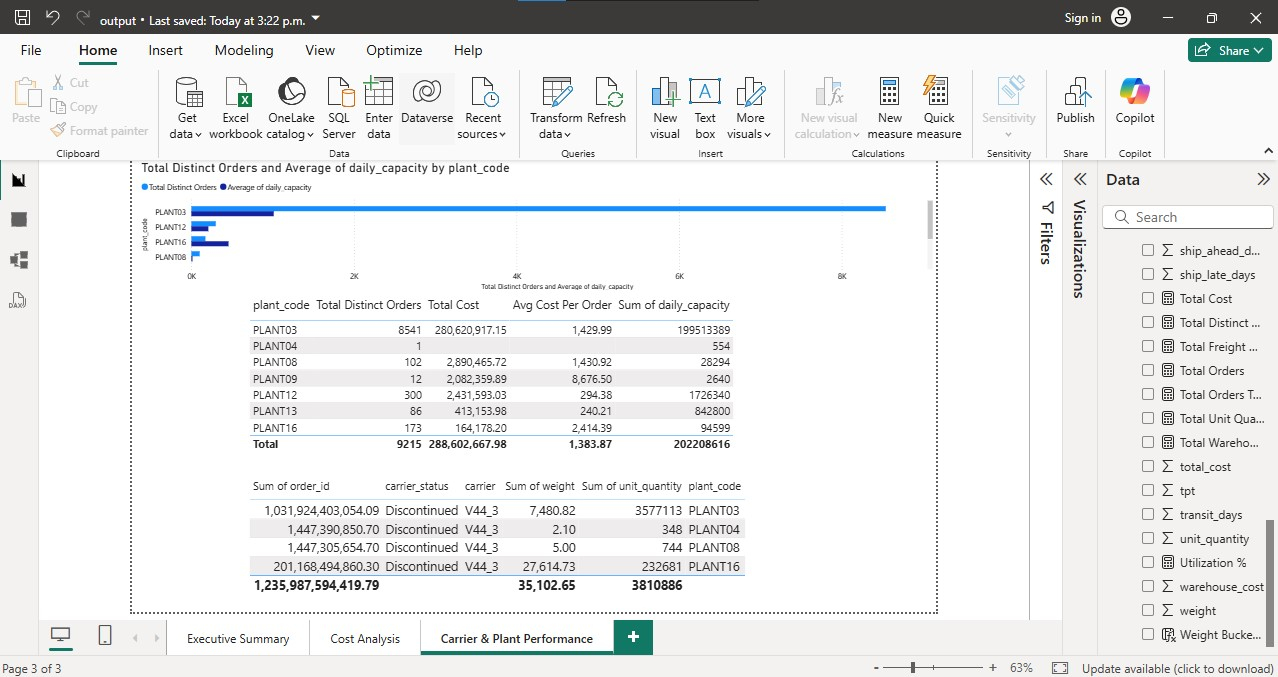

Layout of this report page (visuals, bound fields, positions):
{"tool":"powerbi","page":{"name":"Carrier & Plant Performance","canvas":[1280,720],"ordinal":2},"visuals":[{"type":"clusteredBarChart","fields":{"Category":["supply_chain_master.plant_code"],"Y":["supply_chain_master.Total Distinct Orders","Avg(supply_chain_master.daily_capacity)"]},"box":[9.5,0,1270.5,212.1],"z":0},{"type":"tableEx","fields":{"Values":["supply_chain_master.plant_code","supply_chain_master.Total Distinct Orders","supply_chain_master.Total Cost","supply_chain_master.Avg Cost Per Order","Sum(supply_chain_master.daily_capacity)"]},"box":[181.6,211.9,1073.6,272.4],"z":1},{"type":"tableEx","fields":{"Values":["Sum(supply_chain_master.order_id)","supply_chain_master.carrier_status","supply_chain_master.carrier","Sum(supply_chain_master.weight)","Sum(supply_chain_master.unit_quantity)","supply_chain_master.plant_code"]},"box":[181.6,500.2,1099.1,219.8],"z":2}]}

Visuals, with their boxes on the page's 1280x720 design canvas (x1, y1, x2, y2). These are canvas units, not pixel positions in the 1278x677 screenshot, which may show the page scaled, cropped or inside an application window:
clusteredBarChart - supply_chain_master.plant_code x supply_chain_master.Total Distinct Orders: BBox(10, 0, 1280, 212)
tableEx - supply_chain_master.plant_code x supply_chain_master.Total Distinct Orders: BBox(182, 212, 1255, 484)
tableEx - Sum(supply_chain_master.order_id) x supply_chain_master.carrier_status: BBox(182, 500, 1281, 720)
